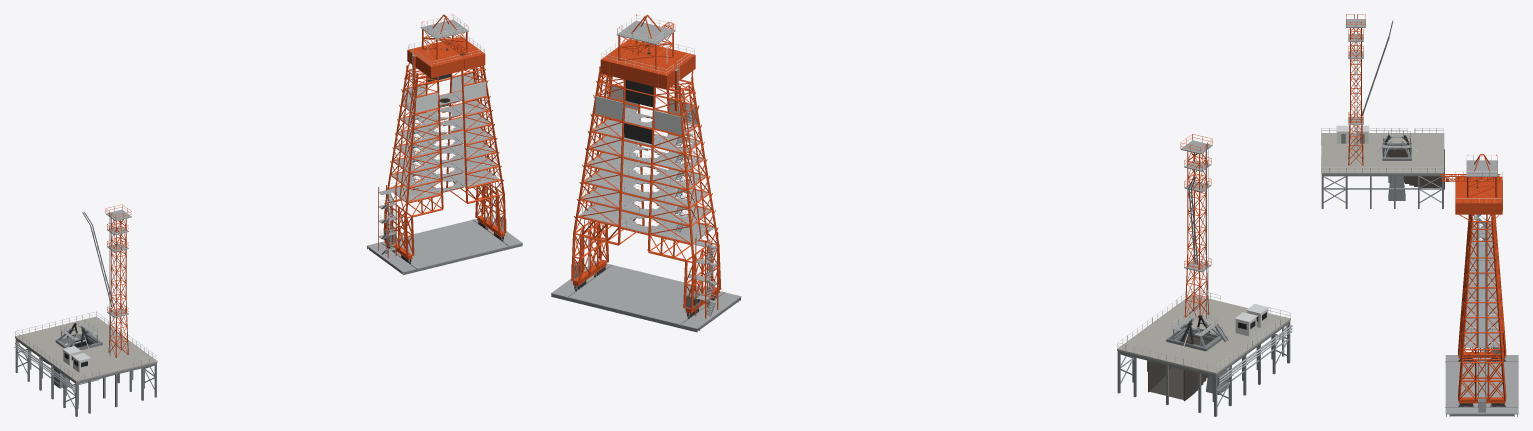
Rendered from 1965-10-pad.lod1.glb.
The picture shows the model from 3 angles, left to right: view 1: azimuth 30°, elevation 25°; view 2: azimuth 150°, elevation 25°; view 3: azimuth 270°, elevation 25°; orthographic projection. The views are drawn at different scales.
Parts seen in each view (by area): view 1: ServiceStructure_Tower_Orange, ServiceStructure_Tower_Deck, LaunchStand_Concrete, TransferTable_Deck, ServiceStructure_Tower_OrangeHead, LaunchStand_GreyFrame, AgenaUmbilicalTower_Orange, ServiceStructure_Tower_WhiteRails, ServiceStructure_Tower_AluminiumCleanroom, LaunchStand_GalvRail, AgenaUmbilicalTower_Deck, ServiceStructure_Tower_GreyStair (+2 smaller); view 2: ServiceStructure_Tower_Orange, ServiceStructure_Tower_Deck, LaunchStand_Concrete, TransferTable_Deck, ServiceStructure_Tower_OrangeHead, LaunchStand_GreyFrame, AgenaUmbilicalTower_Orange, ServiceStructure_Tower_WhiteRails, ServiceStructure_Tower_AluminiumCleanroom, ServiceStructure_Tower_BlackScreen, FlameDeflector_ScorchedWalls, AgenaUmbilicalTower_Deck (+5 smaller); view 3: ServiceStructure_Tower_Orange, LaunchStand_Concrete, ServiceStructure_Tower_Deck, TransferTable_Deck, ServiceStructure_Tower_OrangeHead, LaunchStand_GreyFrame, AgenaUmbilicalTower_Orange, FlameDeflector_ScorchedWalls, LaunchStand_GalvRail, AgenaUmbilicalTower_Deck, LaunchStand_Grey, ServiceStructure_Tower_WhiteRails (+8 smaller).
Part boxes in pixels (left/top/right/bottom): ServiceStructure_Tower_Orange: left=378, top=14, right=506, bottom=257; ServiceStructure_Tower_Deck: left=378, top=19, right=499, bottom=251; LaunchStand_Concrete: left=15, top=316, right=157, bottom=382; TransferTable_Deck: left=367, top=216, right=522, bottom=272; ServiceStructure_Tower_OrangeHead: left=407, top=36, right=485, bottom=78; LaunchStand_GreyFrame: left=15, top=338, right=156, bottom=416; AgenaUmbilicalTower_Orange: left=105, top=204, right=131, bottom=357; ServiceStructure_Tower_WhiteRails: left=389, top=15, right=499, bottom=199; ServiceStructure_Tower_AluminiumCleanroom: left=402, top=73, right=486, bottom=112; LaunchStand_GalvRail: left=15, top=311, right=156, bottom=378; AgenaUmbilicalTower_Deck: left=106, top=209, right=131, bottom=317; ServiceStructure_Tower_GreyStair: left=381, top=91, right=418, bottom=254; ServiceStructure_Tower_Orange: left=571, top=14, right=721, bottom=318; ServiceStructure_Tower_Deck: left=579, top=21, right=717, bottom=303; LaunchStand_Concrete: left=1117, top=294, right=1290, bottom=374; TransferTable_Deck: left=551, top=260, right=741, bottom=329; ServiceStructure_Tower_OrangeHead: left=600, top=39, right=695, bottom=89; LaunchStand_GreyFrame: left=1117, top=321, right=1290, bottom=416; AgenaUmbilicalTower_Orange: left=1180, top=134, right=1212, bottom=319; ServiceStructure_Tower_WhiteRails: left=579, top=15, right=713, bottom=240; ServiceStructure_Tower_AluminiumCleanroom: left=595, top=86, right=697, bottom=134; ServiceStructure_Tower_BlackScreen: left=624, top=80, right=653, bottom=143; FlameDeflector_ScorchedWalls: left=1148, top=334, right=1211, bottom=401; AgenaUmbilicalTower_Deck: left=1180, top=140, right=1212, bottom=272; ServiceStructure_Tower_Orange: left=1441, top=154, right=1506, bottom=400; LaunchStand_Concrete: left=1321, top=133, right=1444, bottom=174; ServiceStructure_Tower_Deck: left=1464, top=160, right=1499, bottom=351; TransferTable_Deck: left=1445, top=355, right=1518, bottom=414; ServiceStructure_Tower_OrangeHead: left=1455, top=176, right=1502, bottom=214; LaunchStand_GreyFrame: left=1321, top=149, right=1443, bottom=208; AgenaUmbilicalTower_Orange: left=1346, top=14, right=1365, bottom=165; FlameDeflector_ScorchedWalls: left=1386, top=149, right=1444, bottom=189; LaunchStand_GalvRail: left=1321, top=128, right=1443, bottom=172; AgenaUmbilicalTower_Deck: left=1346, top=19, right=1365, bottom=124; LaunchStand_Grey: left=1360, top=134, right=1408, bottom=200; ServiceStructure_Tower_WhiteRails: left=1455, top=155, right=1502, bottom=346.
Bounding box in the file's own units: 114 × 50.13 × 38.15.
